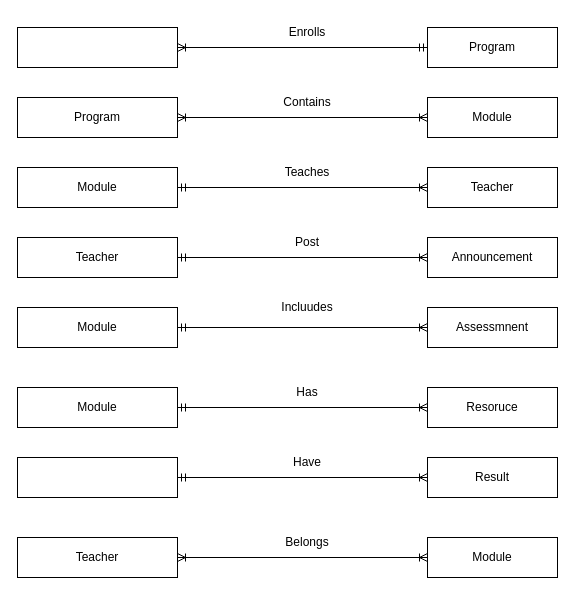
Image size: 575x595. Some labels were removed from this diagram. The box of each missing label's shape, as (x1, y1, x2, y2) in pixels:
Assessment: (16, 456, 178, 498)
Student: (16, 26, 178, 68)
